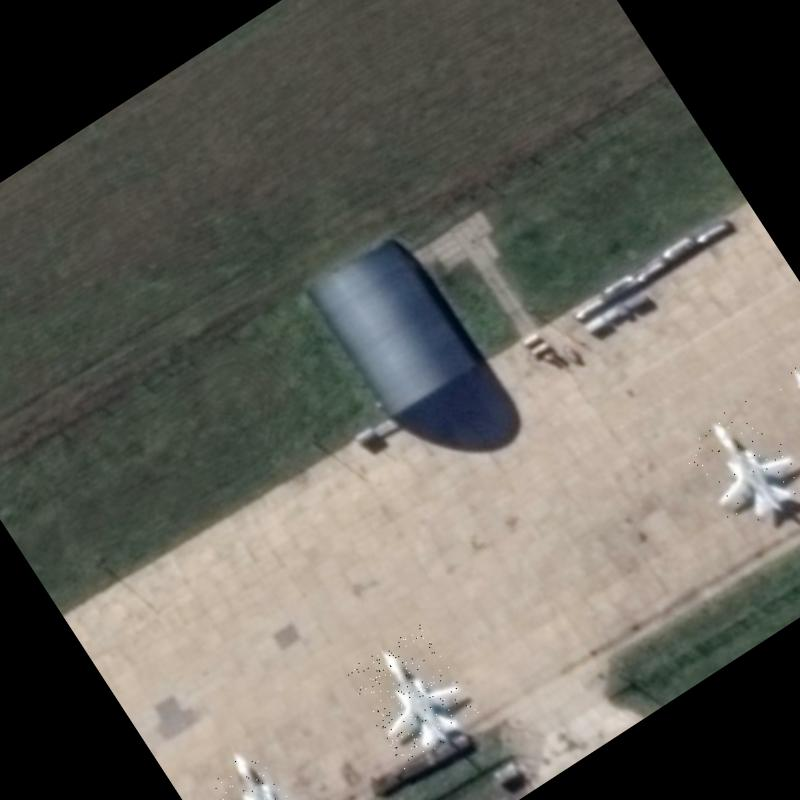A20: (342, 623, 482, 769), (675, 395, 800, 540), (201, 740, 313, 800), (771, 350, 800, 471)
